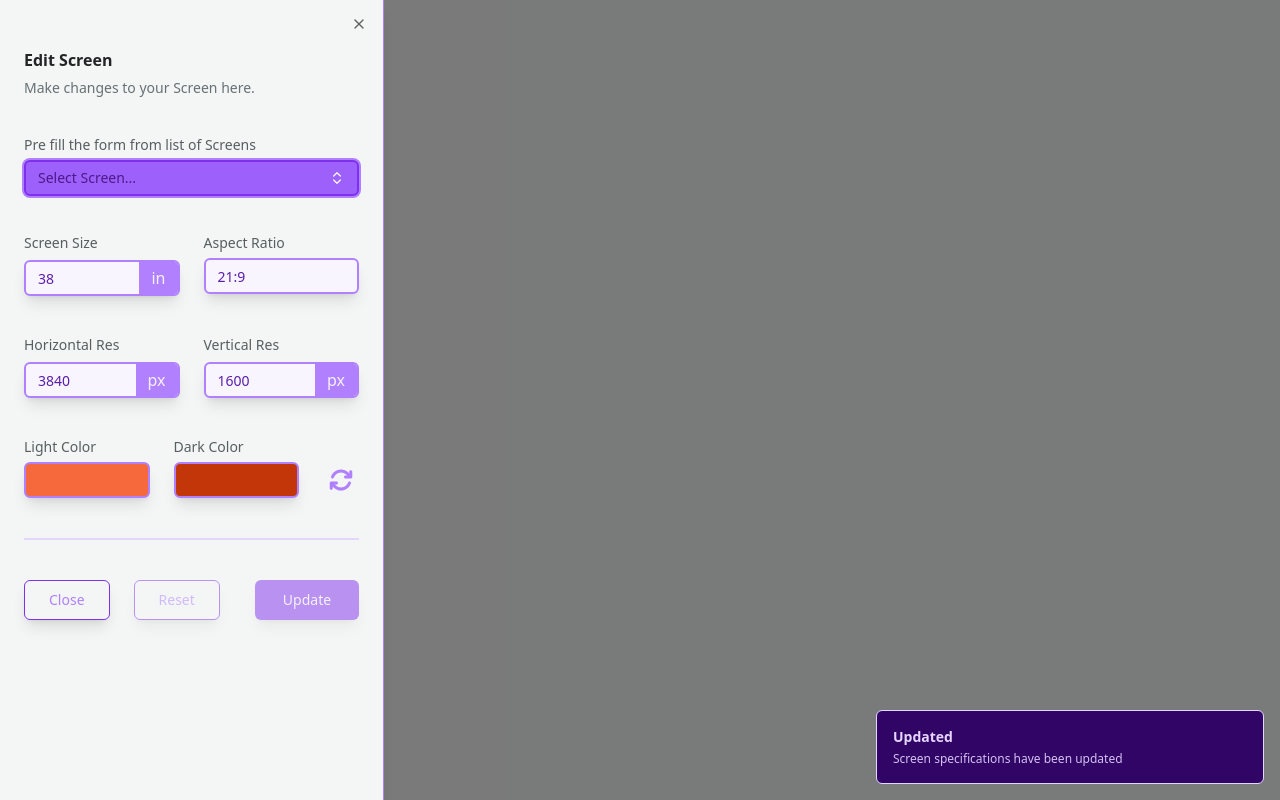
Scenario: #ScreenFormDrawer › #EditMode › reset screen form
The image size is (1280, 800).
Replace the text in the number field labelled "Screen Size" with "27" at {"x": 102, "y": 278}, box [24,260,180,296]
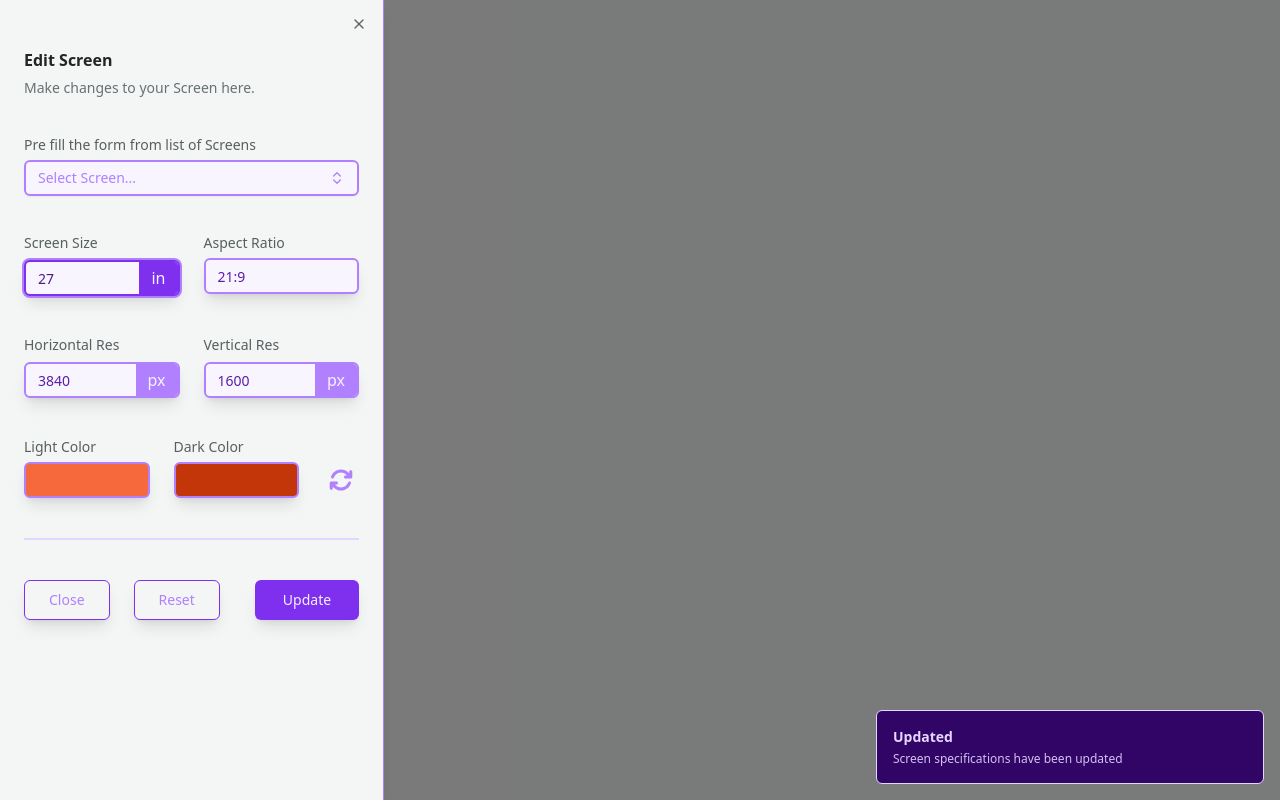
Click the button "Reset".
click(177, 600)  # box [134,580,220,620]
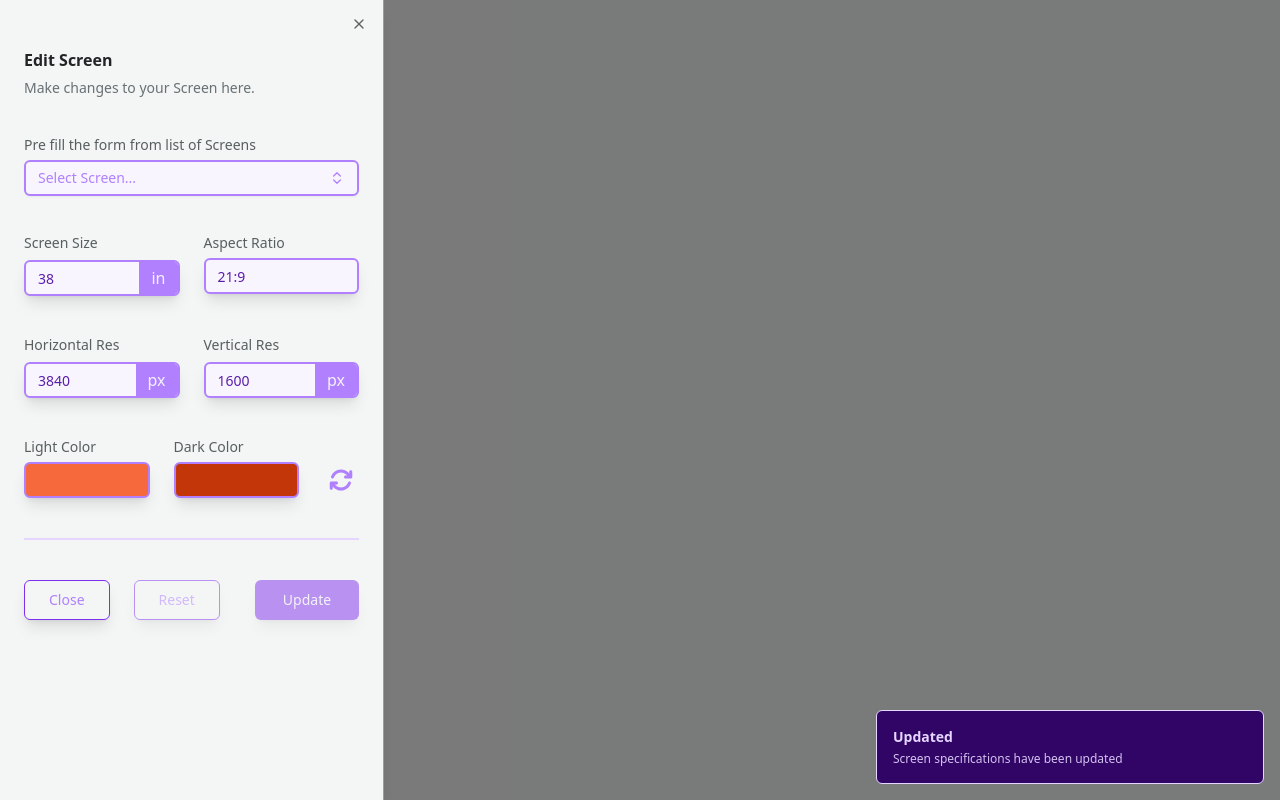
Now the number field labelled "Screen Size" holds "38", box [24,260,180,296]
